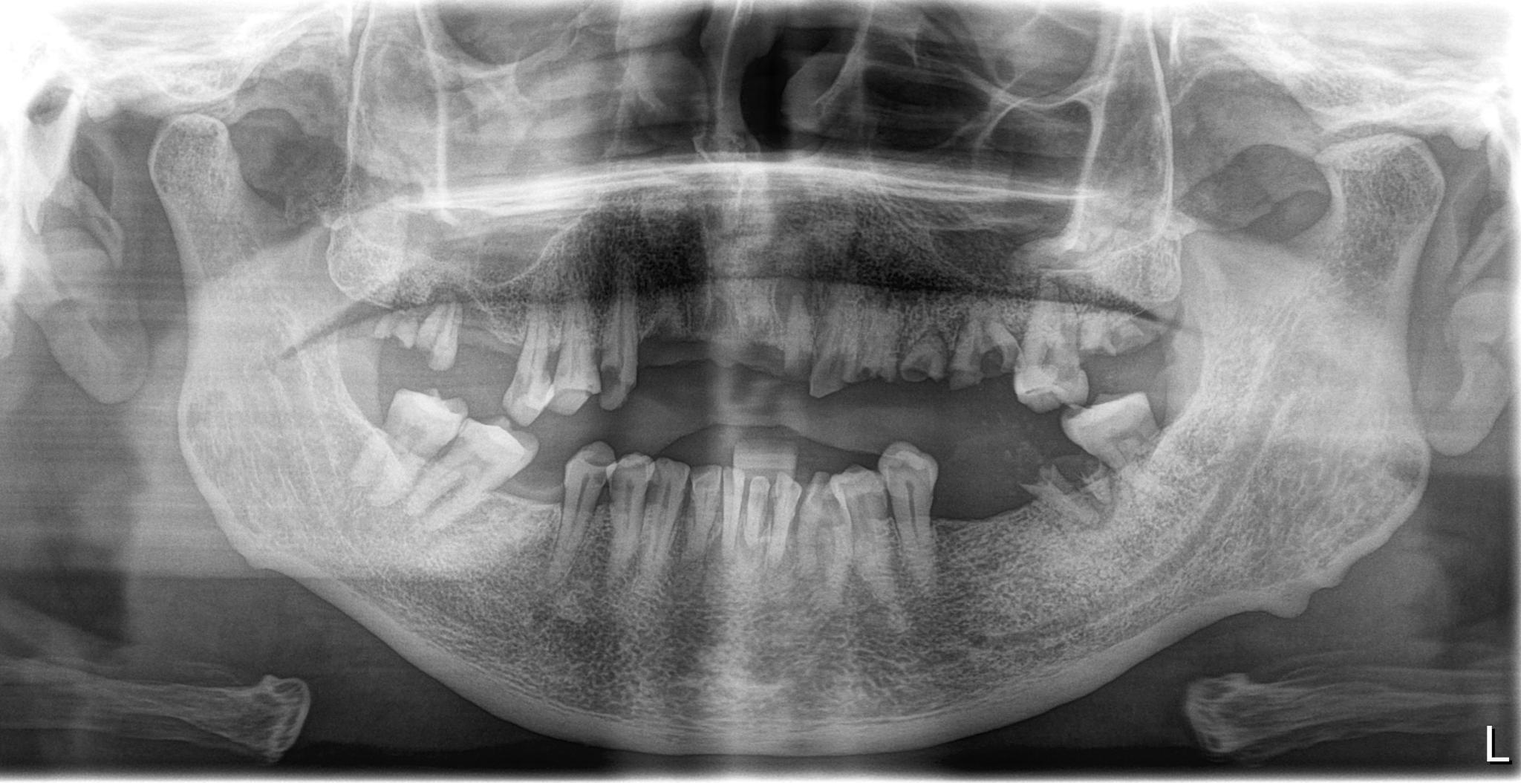Dental Caries: (895, 338, 939, 379), (806, 340, 849, 379), (977, 336, 1011, 384), (594, 364, 626, 400)
Impacted Third Molar: (358, 398, 531, 546)
Missing Tooth: (1084, 293, 1179, 396), (711, 297, 782, 414), (639, 303, 706, 411), (939, 459, 1015, 553), (466, 305, 519, 400)
Periapical Abnormality: (568, 448, 932, 605)
Retained Root: (1023, 442, 1112, 556), (364, 303, 464, 391)
